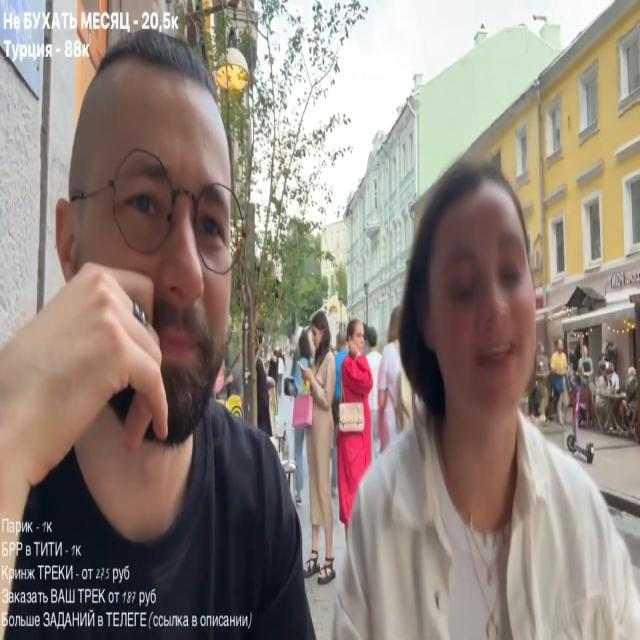Person: (9, 12, 274, 610), (316, 148, 639, 633), (296, 311, 379, 561), (292, 316, 339, 600), (334, 316, 379, 545), (376, 323, 411, 455), (594, 359, 622, 436), (548, 343, 571, 423), (623, 365, 640, 442)
